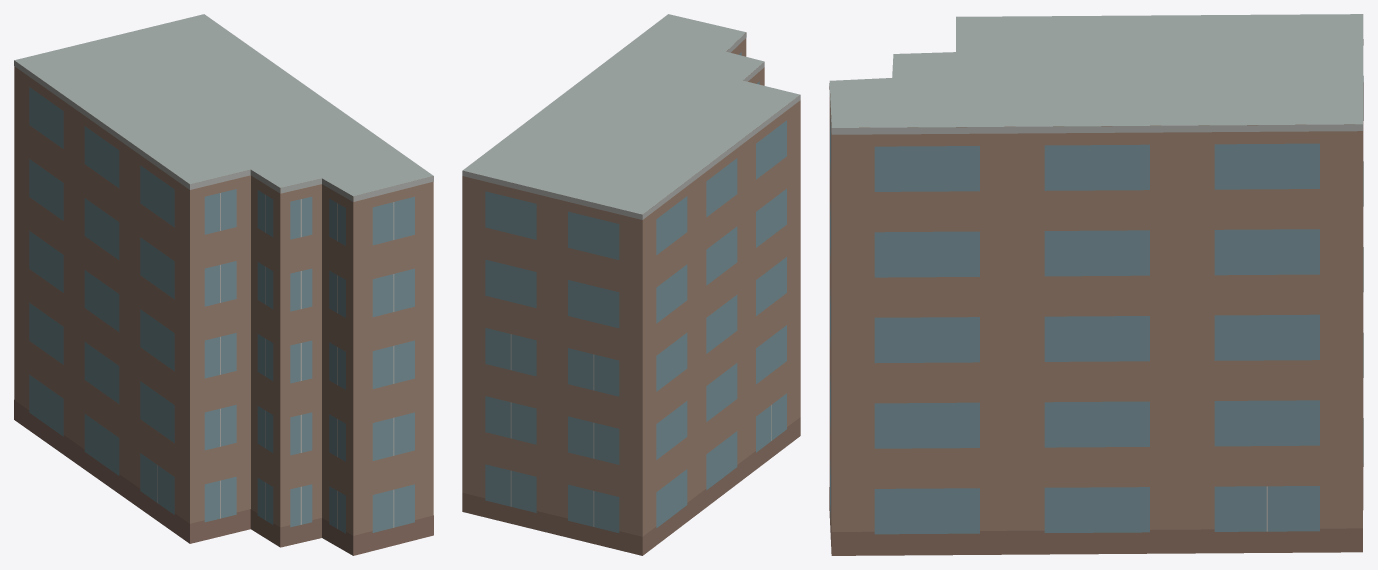
File: survey-upis-32874626.glb
3 views of the same model, side by side, from view 1: azimuth 30°, elevation 25°; view 2: azimuth 150°, elevation 25°; view 3: azimuth 270°, elevation 25° (orthographic). The views are drawn at different scales.
Visible parts, largest first — view 1: survey-upis-32874626.tmp; view 2: survey-upis-32874626.tmp; view 3: survey-upis-32874626.tmp.
Boxes of the visible parts, bbox=[...] form: survey-upis-32874626.tmp: bbox=[14, 14, 433, 555]; survey-upis-32874626.tmp: bbox=[462, 14, 800, 555]; survey-upis-32874626.tmp: bbox=[829, 14, 1363, 555].
Bounding box in the file's own units: 8.79 × 15.37 × 17.39.
